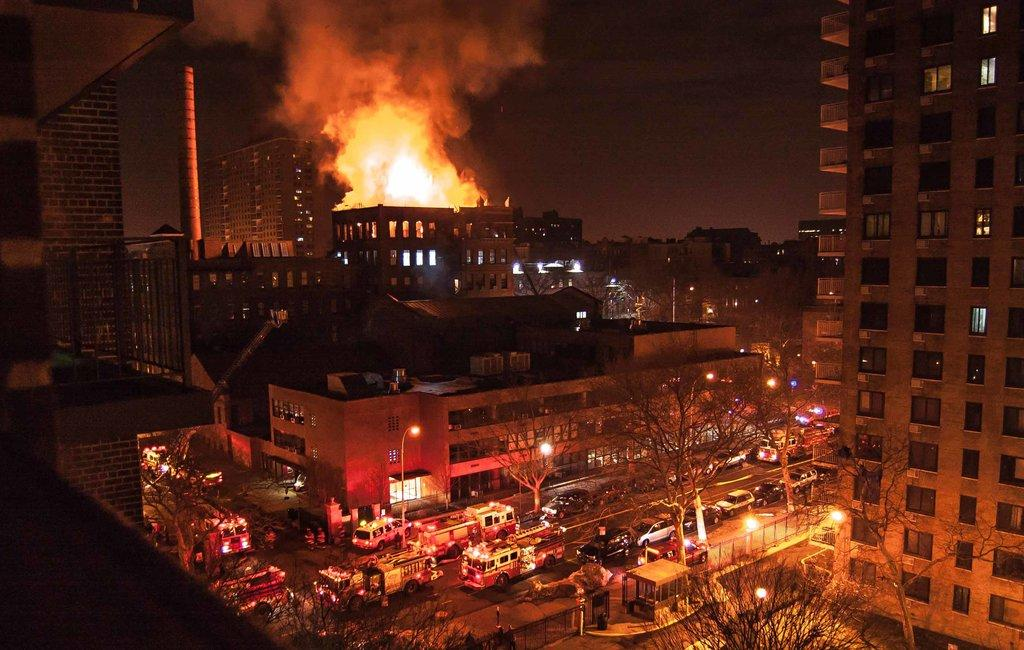Fire: (314, 75, 502, 232)
